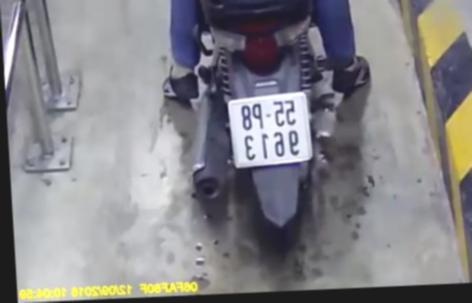License_Plate: (224, 86, 318, 172)
